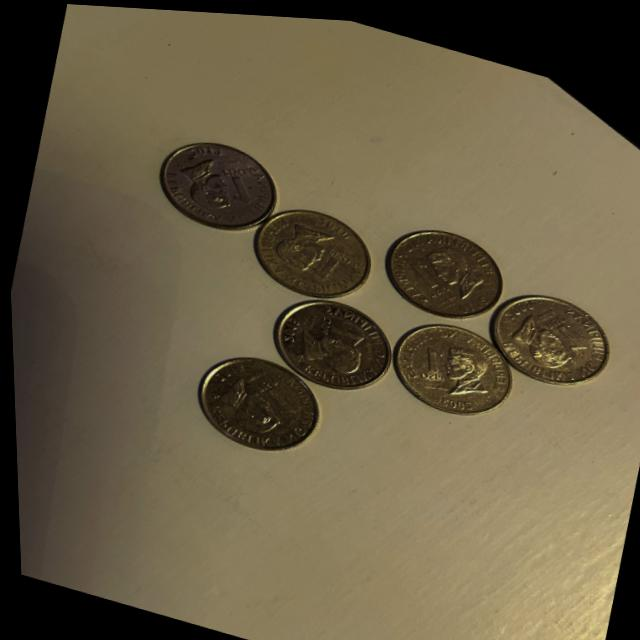1_Old_Front: (246, 369, 303, 418), (396, 249, 454, 297), (536, 303, 596, 349), (307, 235, 357, 283), (214, 160, 256, 210), (410, 334, 450, 386), (318, 311, 372, 349)
